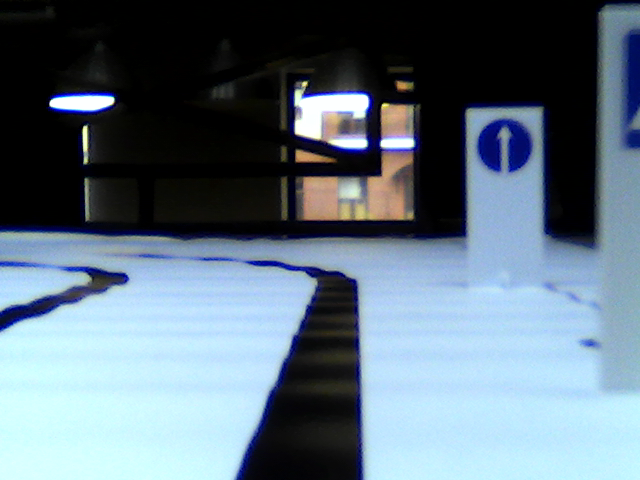forw: (476, 119, 532, 175)
